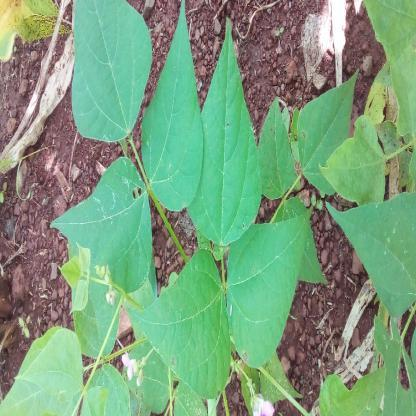Beans_Angular_LeafSpot: (118, 247, 221, 403), (225, 202, 308, 376), (50, 156, 152, 288)
